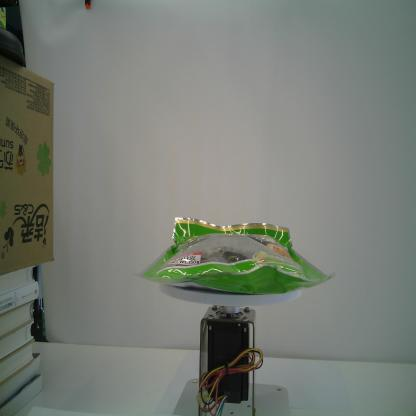Dried Food: (131, 214, 337, 298)
